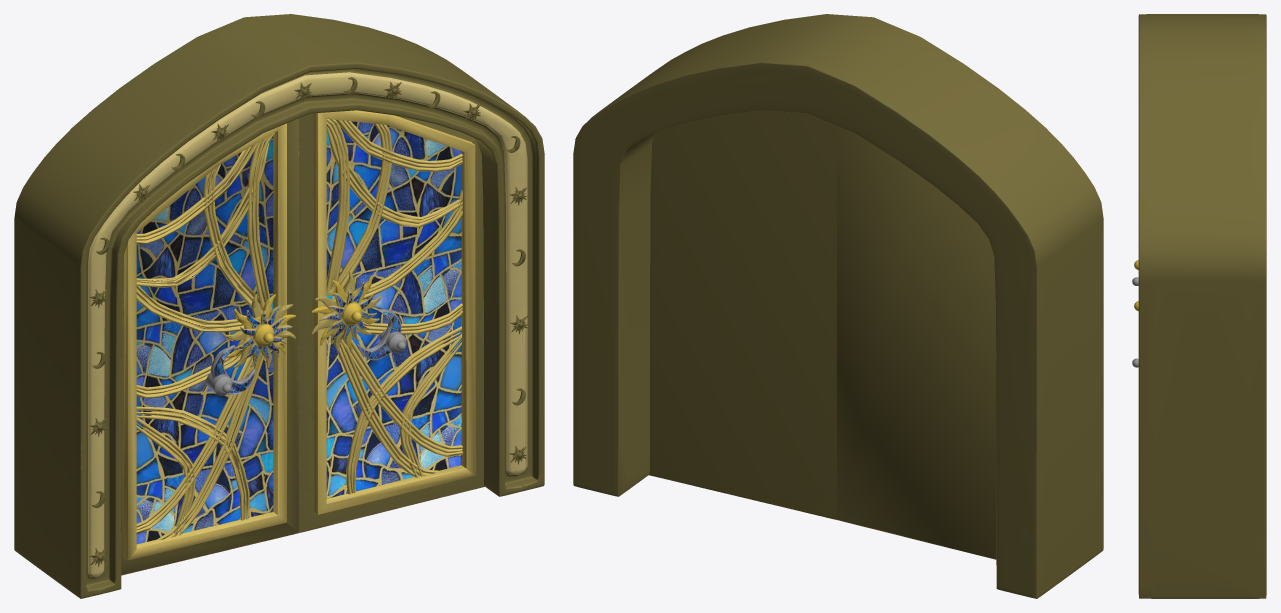
Rendered from doorClosed_lowPoly.glb.
The picture shows the model from 3 angles, left to right: view 1: azimuth 30°, elevation 25°; view 2: azimuth 150°, elevation 25°; view 3: azimuth 270°, elevation 25°; orthographic projection. The views are drawn at different scales.
Visible parts, largest first — view 1: polySurface15.002; view 2: polySurface15.002; view 3: polySurface15.002.
Boxes of the visible parts, box(x1,y1,x2,y2) form: polySurface15.002: box(14, 14, 544, 598); polySurface15.002: box(573, 14, 1103, 598); polySurface15.002: box(1132, 14, 1266, 598).
Bounding box in the file's own units: 0.2664 × 0.2624 × 0.0699.
Materials: 5 (5 with a texture image).
